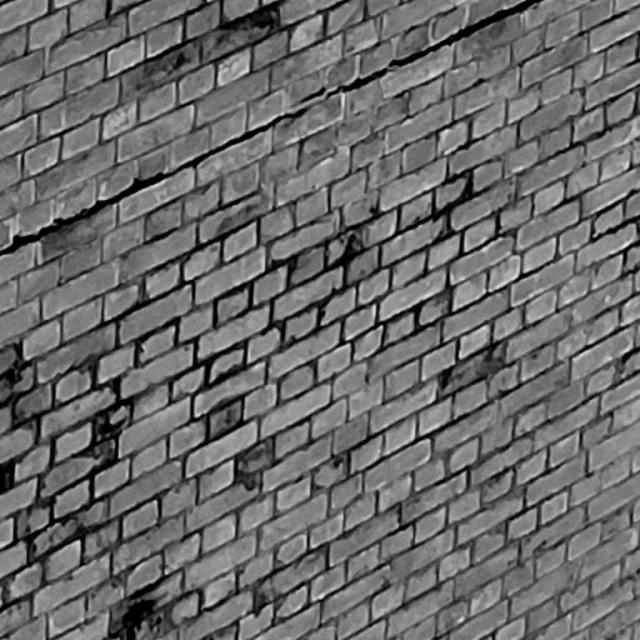crack: (1, 1, 537, 255)
